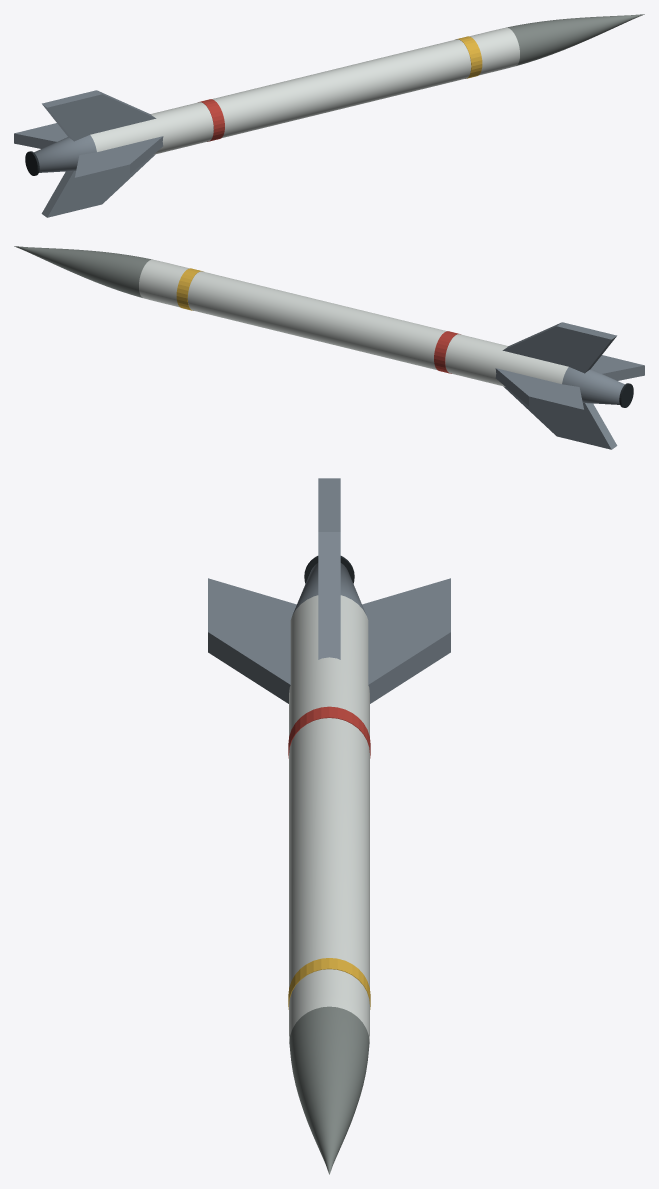
The model's file is asraam_aam.glb.
The picture shows the model from 3 angles, top to bottom: view 1: azimuth 30°, elevation 25°; view 2: azimuth 150°, elevation 25°; view 3: azimuth 270°, elevation 25°; orthographic projection. The views are drawn at different scales.
Parts seen in each view (by area): view 1: asraam_aam; view 2: asraam_aam; view 3: asraam_aam.
Part boxes in pixels (x1,y1,x2,y2): asraam_aam: [14, 14, 644, 217]; asraam_aam: [14, 246, 644, 449]; asraam_aam: [208, 478, 450, 1174].
Bounding box in the file's own units: 10 × 1.72 × 1.72.
